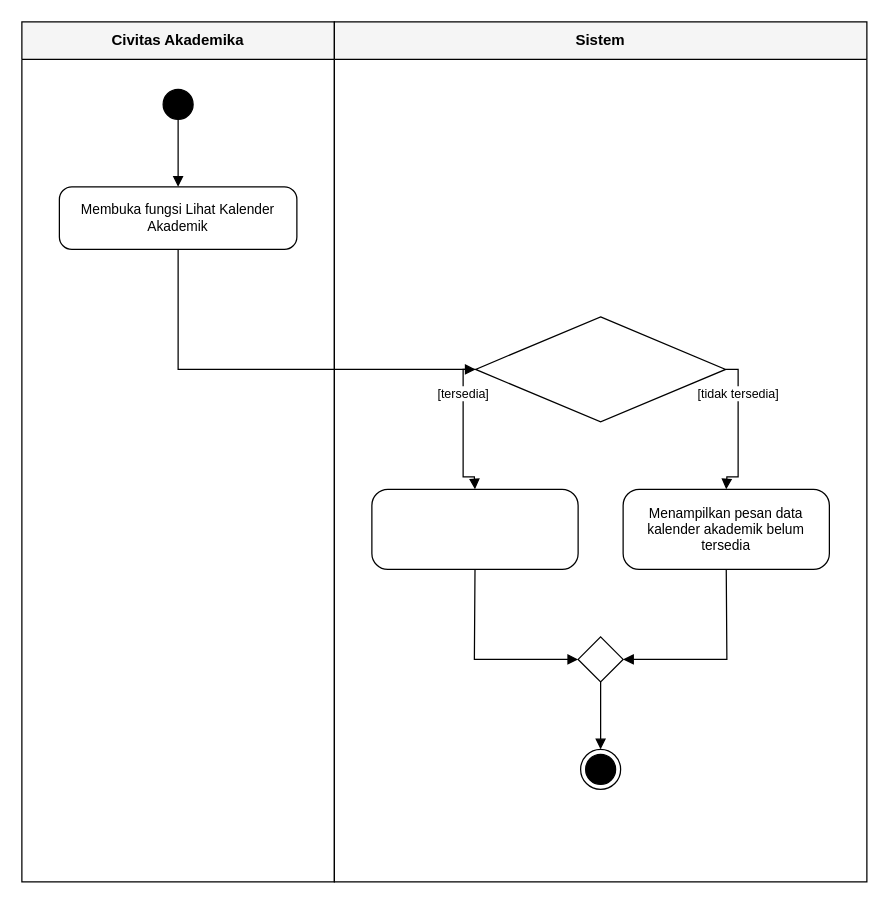
Image size: 889x904. Some labels were removed from this diagram. The centre of each missing label's shape, as x and y in pixels:
"Data kalender akademik tersedia?" belongs at point 600,369.
"Menampilkan daftar agenda kalender akademik beserta tanggalnya" belongs at point 474,528.
